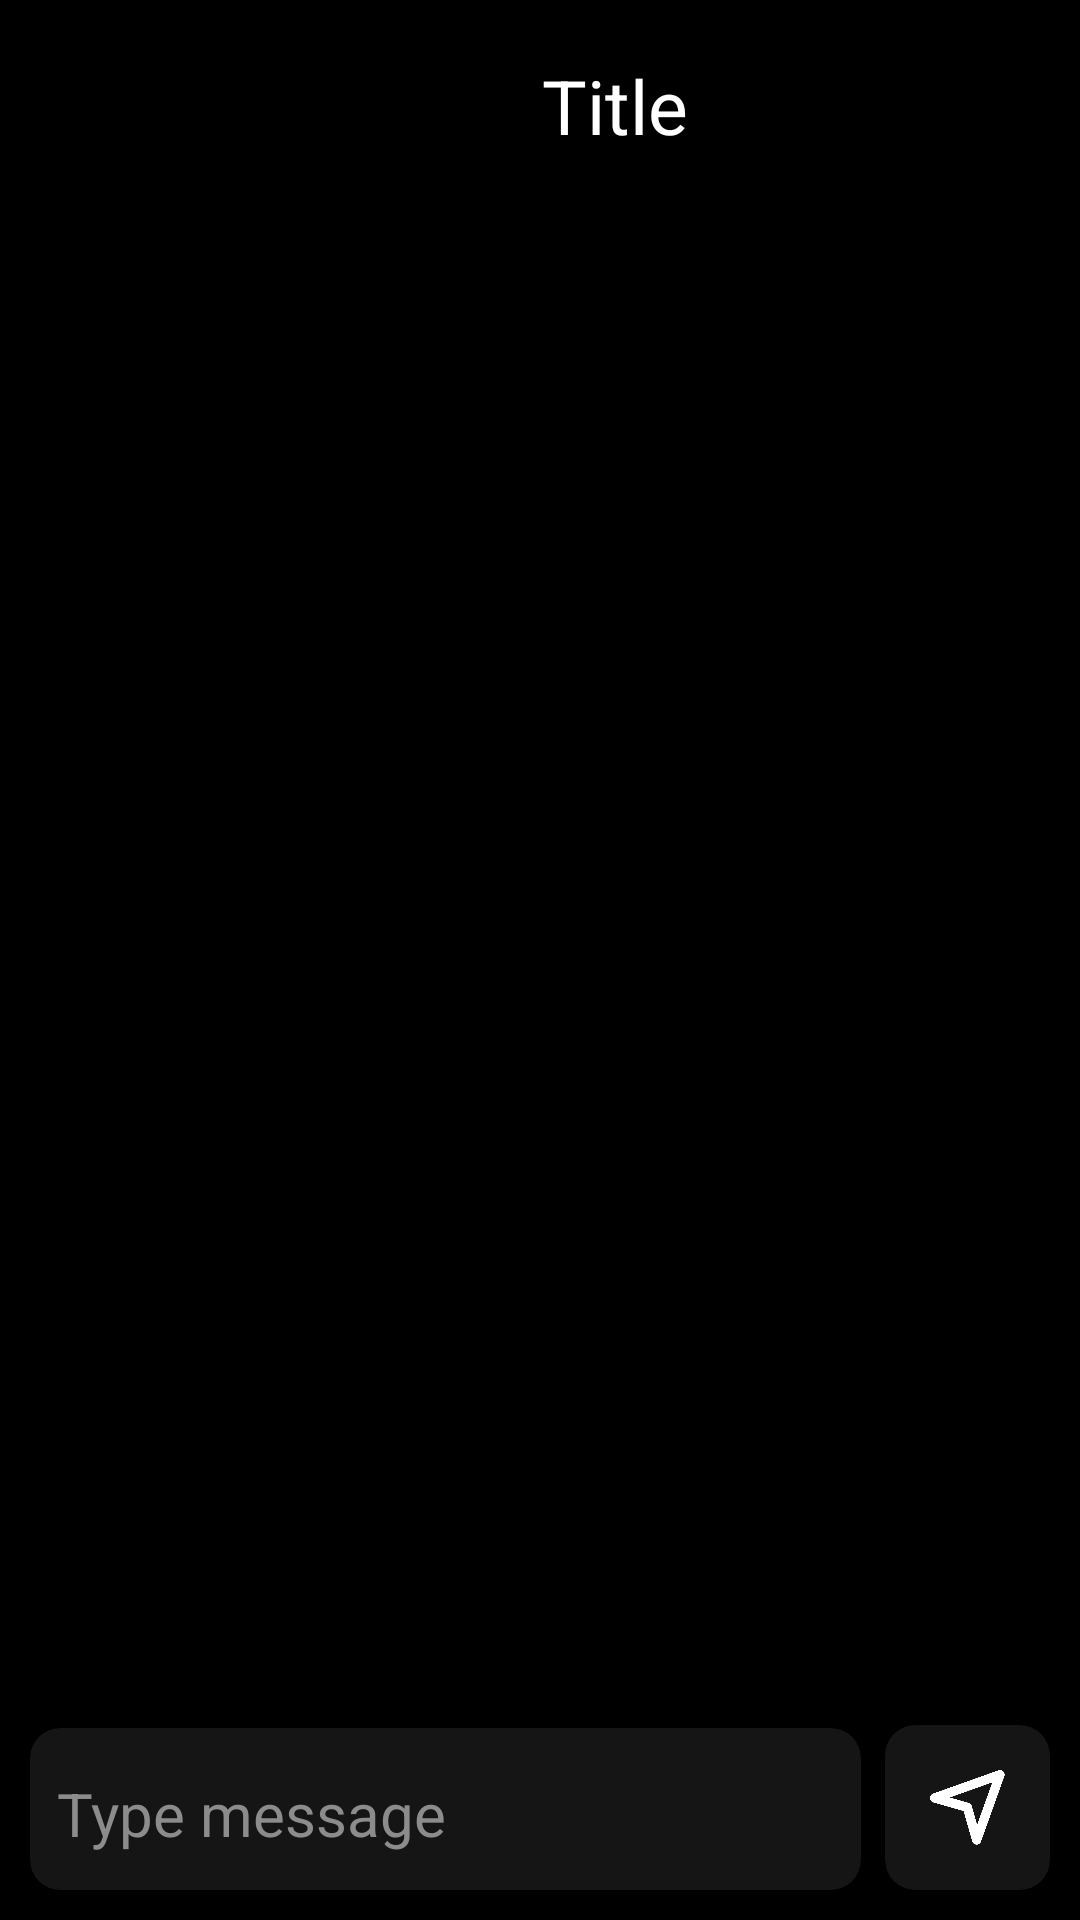

Screen size 1080x1920. Icon name, then its box in pixels as (x1, y1, x2, y2):
Send Message: (885, 1725, 1050, 1890)
